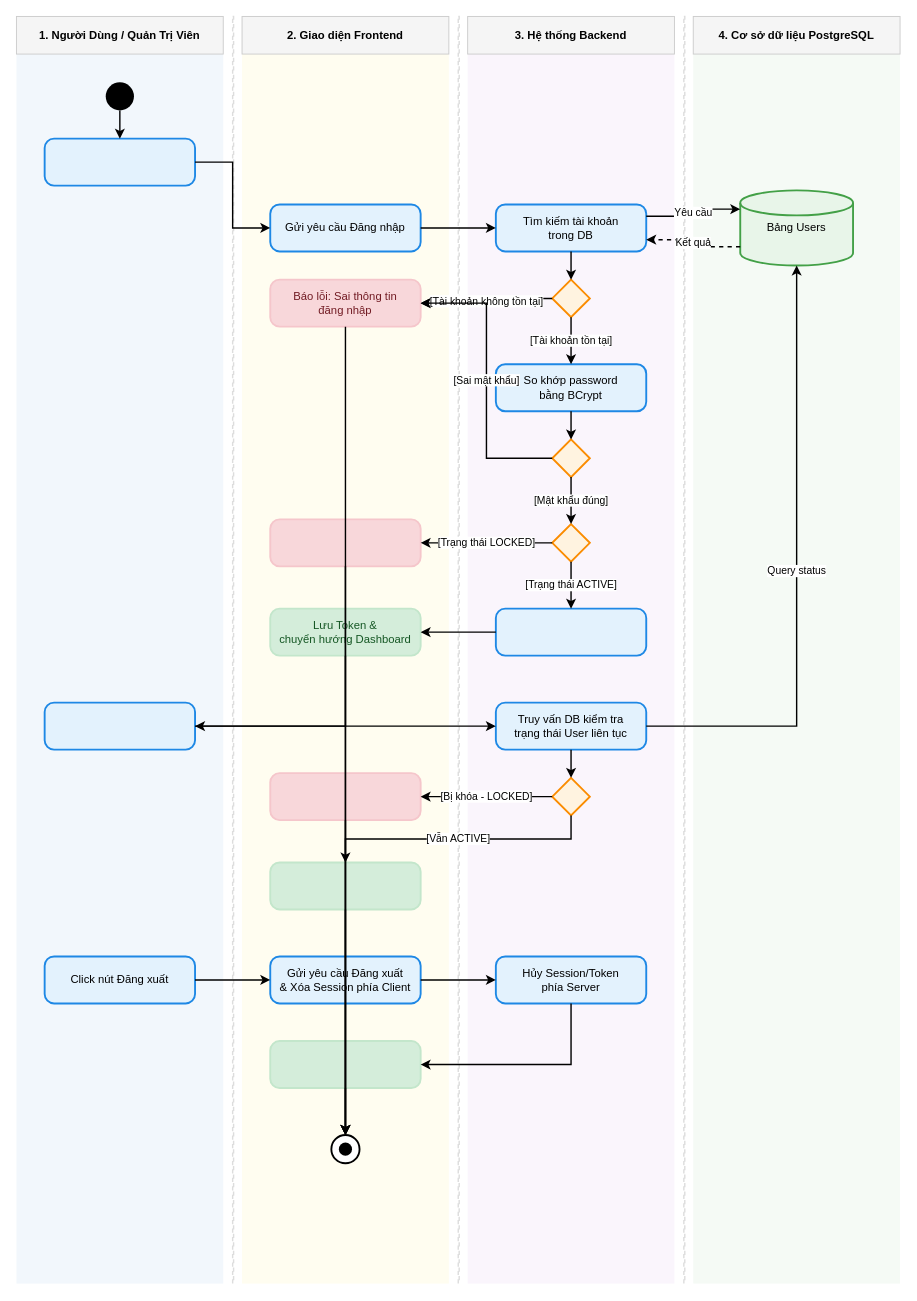
Image size: 917x1301. Some labels were removed from this diagram. The box of each missing label's shape, as (x1, y1, x2, y2) in pixels:
Báo lỗi: Tài khoản đã bị khóa (LOCKED): (269, 518, 421, 567)
Chuyển hướng về màn hình Đăng nhập: (269, 1040, 421, 1089)
Nhập username/password: (43, 137, 196, 186)
Thực hiện hành động bất kỳ trên hệ thống: (43, 701, 196, 750)
Tiếp tục thực hiện hành động: (269, 861, 421, 910)
Tạo Session & trả về Token Đăng nhập: (494, 607, 647, 656)
Ép Đăng xuất (Force logout) & Xóa Session/Token: (269, 772, 421, 821)
